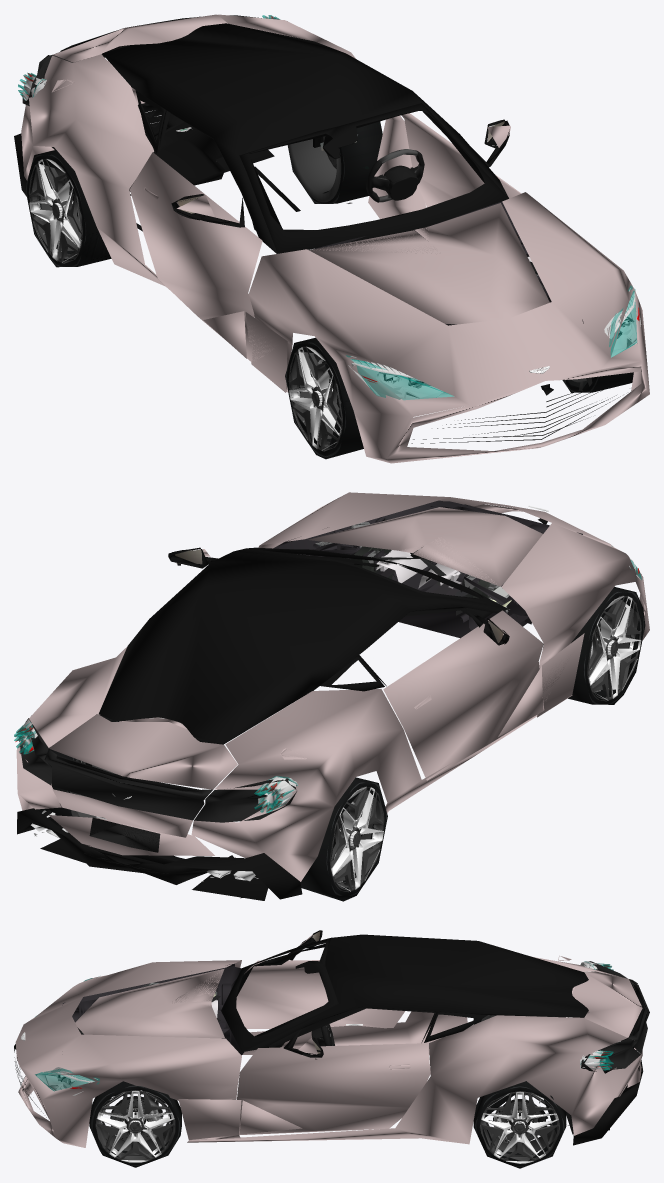
Rendered from zagato-lq.glb.
The picture shows the model from 3 angles, top to bottom: view 1: azimuth 30°, elevation 25°; view 2: azimuth 150°, elevation 25°; view 3: azimuth 270°, elevation 25°; orthographic projection. The views are drawn at different scales.
Visible parts, largest first — view 1: Object_92, Object_32, Object_402, Object_408, Object_405, Object_44, Object_8, Object_356; view 2: Object_92, Object_32, Object_29, Object_122, Object_402, Object_408, Object_405, Object_44, Object_639, Object_8; view 3: Object_92, Object_32, Object_408, Object_402, Object_405, Object_122, Object_29, Object_44, Object_8, Object_417, Object_372, Object_356.
Boxes of the visible parts, x1=… form: Object_92: x1=21, y1=14, x2=649, y2=463; Object_32: x1=14, y1=17, x2=631, y2=443; Object_402: x1=25, y1=121, x2=633, y2=459; Object_408: x1=28, y1=139, x2=594, y2=451; Object_405: x1=29, y1=159, x2=341, y2=450; Object_44: x1=22, y1=18, x2=641, y2=400; Object_8: x1=18, y1=15, x2=636, y2=399; Object_356: x1=366, y1=150, x2=424, y2=202; Object_92: x1=16, y1=492, x2=649, y2=881; Object_32: x1=17, y1=518, x2=547, y2=900; Object_29: x1=19, y1=718, x2=296, y2=822; Object_122: x1=273, y1=500, x2=582, y2=638; Object_402: x1=38, y1=587, x2=645, y2=901; Object_408: x1=70, y1=595, x2=641, y2=892; Object_405: x1=331, y1=596, x2=641, y2=891; Object_44: x1=20, y1=558, x2=640, y2=881; Object_639: x1=89, y1=817, x2=160, y2=852; Object_8: x1=14, y1=560, x2=641, y2=812; Object_92: x1=15, y1=934, x2=642, y2=1147; Object_32: x1=14, y1=930, x2=644, y2=1145; Object_408: x1=95, y1=1015, x2=559, y2=1161; Object_402: x1=89, y1=1017, x2=566, y2=1168; Object_405: x1=96, y1=1091, x2=558, y2=1163; Object_122: x1=62, y1=963, x2=244, y2=1055; Object_29: x1=581, y1=961, x2=649, y2=1071; Object_44: x1=36, y1=962, x2=639, y2=1095; Object_8: x1=35, y1=961, x2=613, y2=1091; Object_417: x1=110, y1=1015, x2=542, y2=1143; Object_372: x1=148, y1=1096, x2=547, y2=1142; Object_356: x1=311, y1=1024, x2=334, y2=1046.
Size of the model in its own units: 0.0218 by 0.0128 by 0.0479.
Materials: 30 (14 with a texture image).
